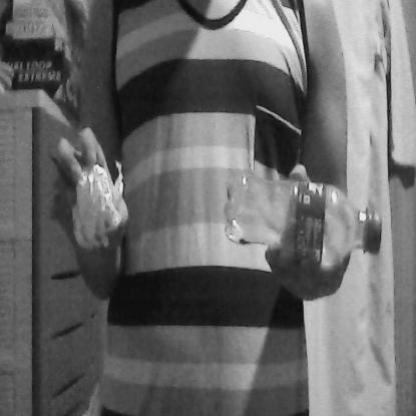Plastic Bottle: (216, 158, 389, 287)
